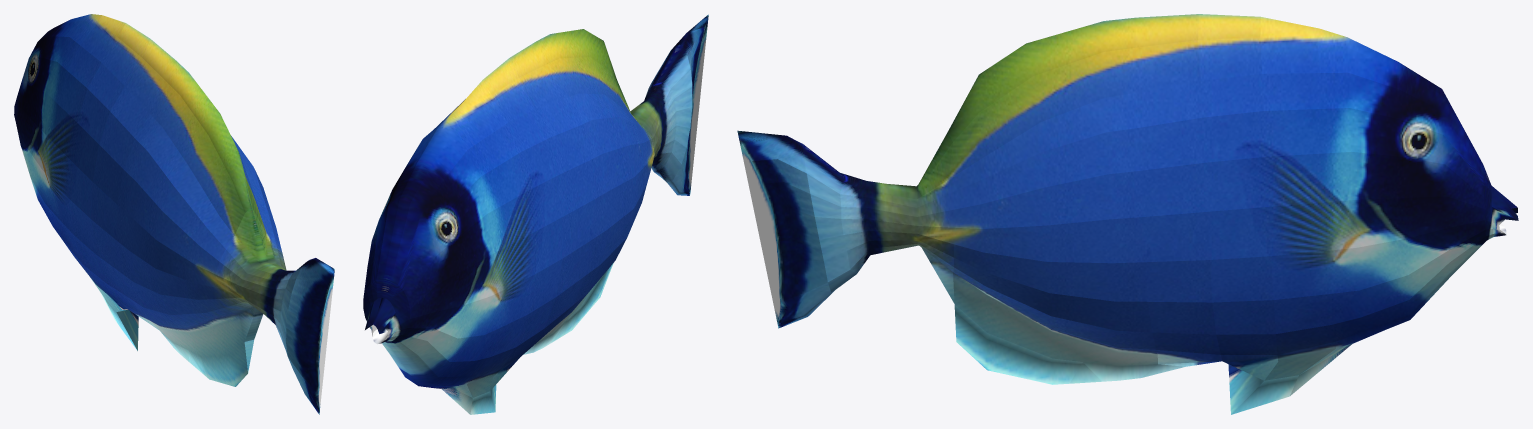
The model's file is Fish_A.fbx.
3 renders of one model, left to right at view 1: azimuth 30°, elevation 25°; view 2: azimuth 150°, elevation 25°; view 3: azimuth 270°, elevation 25°, orthographic. The views are drawn at different scales.
Parts seen in each view (by area): view 1: pSphere1; view 2: pSphere1; view 3: pSphere1.
Part boxes in pixels (x1,y1,x2,y2): pSphere1: [14, 14, 334, 414]; pSphere1: [363, 14, 708, 414]; pSphere1: [737, 14, 1518, 414].
Size of the model in its own units: 0.5852 by 1.6 by 2.82.
1 material, 1 textured.
